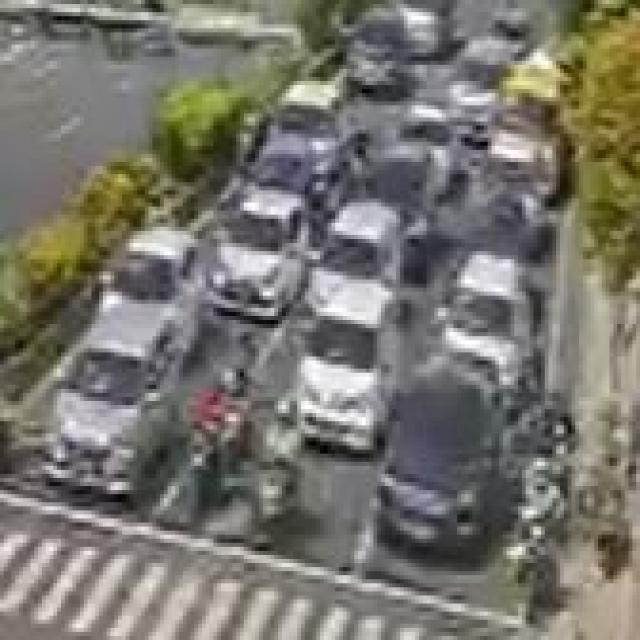car: (363, 359, 508, 572), (37, 299, 178, 493), (292, 277, 397, 454), (441, 255, 537, 405), (211, 186, 314, 324)
motorbike: (171, 349, 262, 510)
